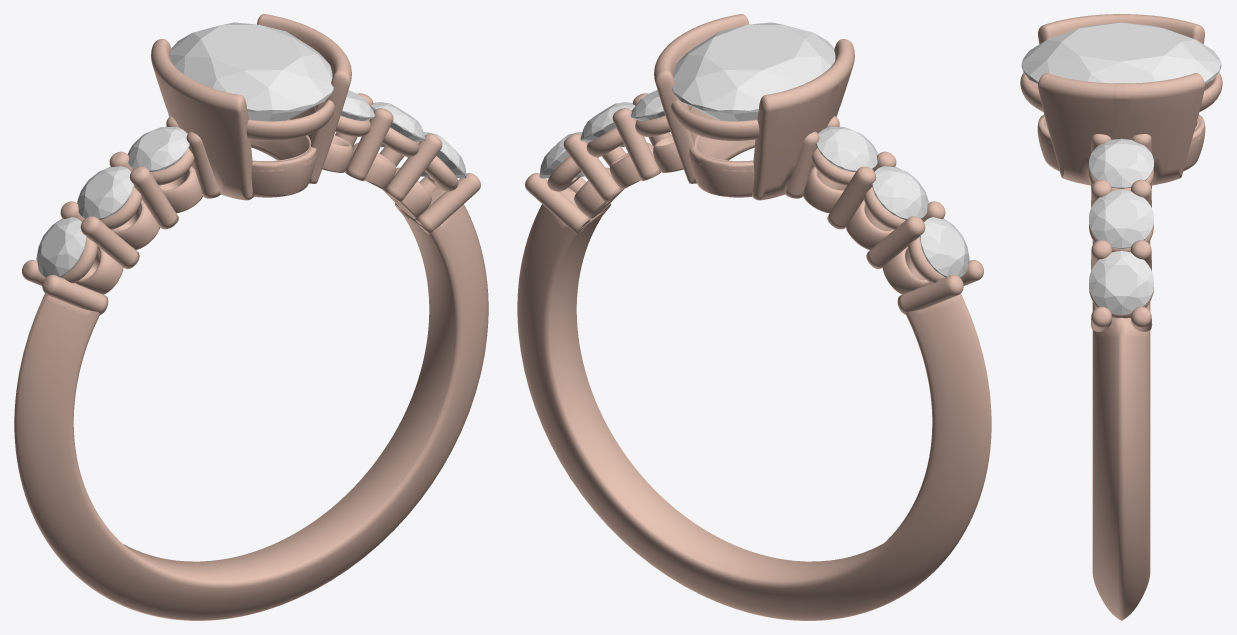
Rendered from diamond-oval-rosegold-halfmoonbezel-knifeedge-7stone.glb.
3 renders of one model, left to right at view 1: azimuth 30°, elevation 25°; view 2: azimuth 150°, elevation 25°; view 3: azimuth 270°, elevation 25°, orthographic. The views are drawn at different scales.
Parts seen in each view (by area): view 1: metal, stone.003, side.006, side.007, side.008, side.010, side.011, side.009; view 2: metal, stone.003, side.006, side.007, side.008, side.010, side.011, side.009; view 3: metal, stone.003, side.009, side.010, side.011.
Boxes of the visible parts, x1,y1,x2,y2 form: metal: [14, 14, 488, 620]; stone.003: [170, 22, 333, 121]; side.006: [36, 217, 86, 277]; side.007: [77, 166, 134, 219]; side.008: [127, 126, 189, 171]; side.010: [370, 102, 425, 147]; side.011: [340, 90, 374, 120]; side.009: [419, 132, 466, 178]; metal: [517, 14, 991, 620]; stone.003: [672, 22, 835, 121]; side.006: [919, 217, 969, 277]; side.007: [871, 166, 928, 219]; side.008: [816, 126, 878, 171]; side.010: [580, 102, 635, 147]; side.011: [631, 90, 665, 120]; side.009: [539, 132, 586, 178]; metal: [1020, 14, 1222, 620]; stone.003: [1021, 22, 1221, 83]; side.009: [1089, 251, 1153, 314]; side.010: [1089, 189, 1153, 248]; side.011: [1089, 138, 1153, 188].
Bounding box in the file's own units: 20.5 × 23.4 × 7.75.
